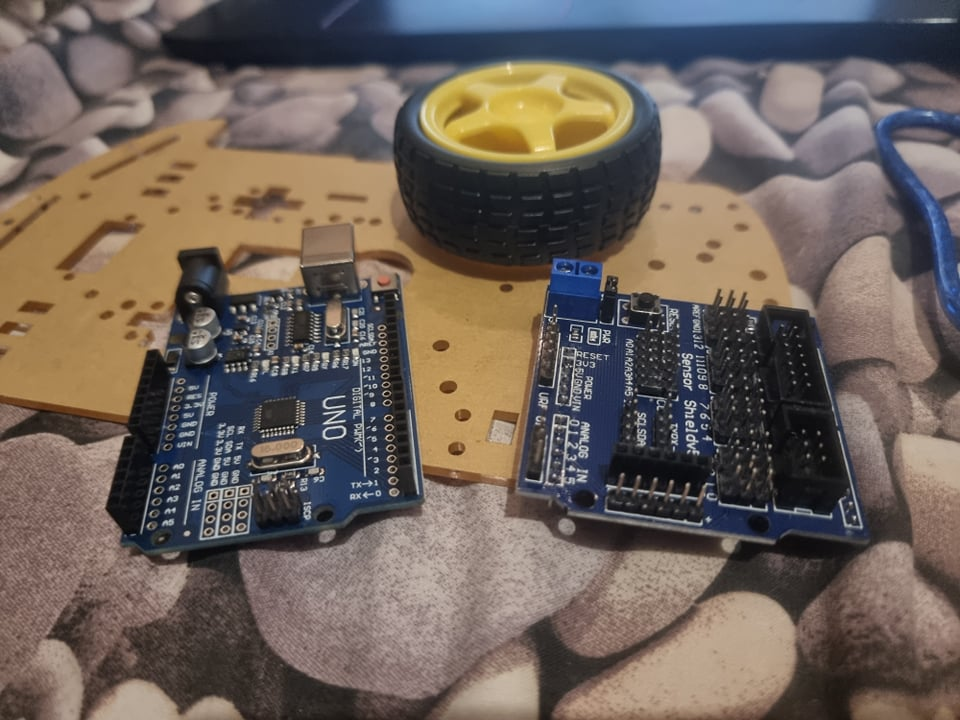5V EXPANSION: (515, 255, 868, 546)
UNO R3: (103, 224, 424, 556)
